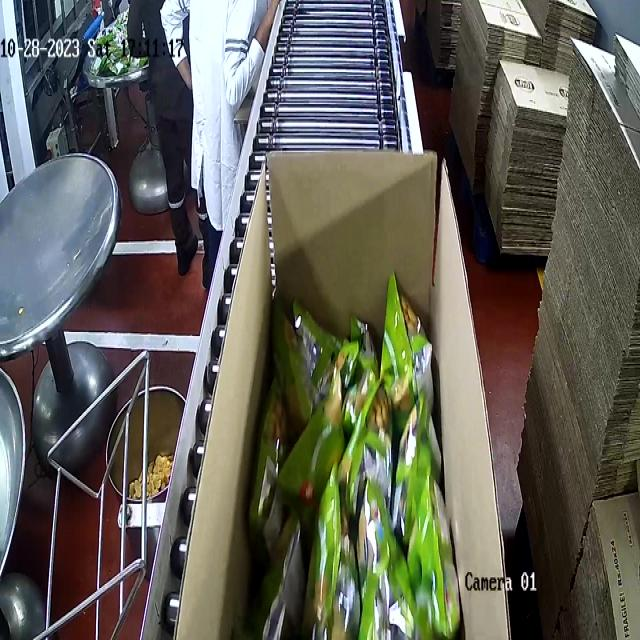YOGURT_HERB: (265, 282, 456, 636)
